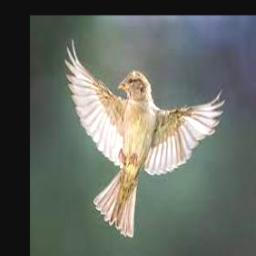Sparrow: (64, 39, 225, 237)
